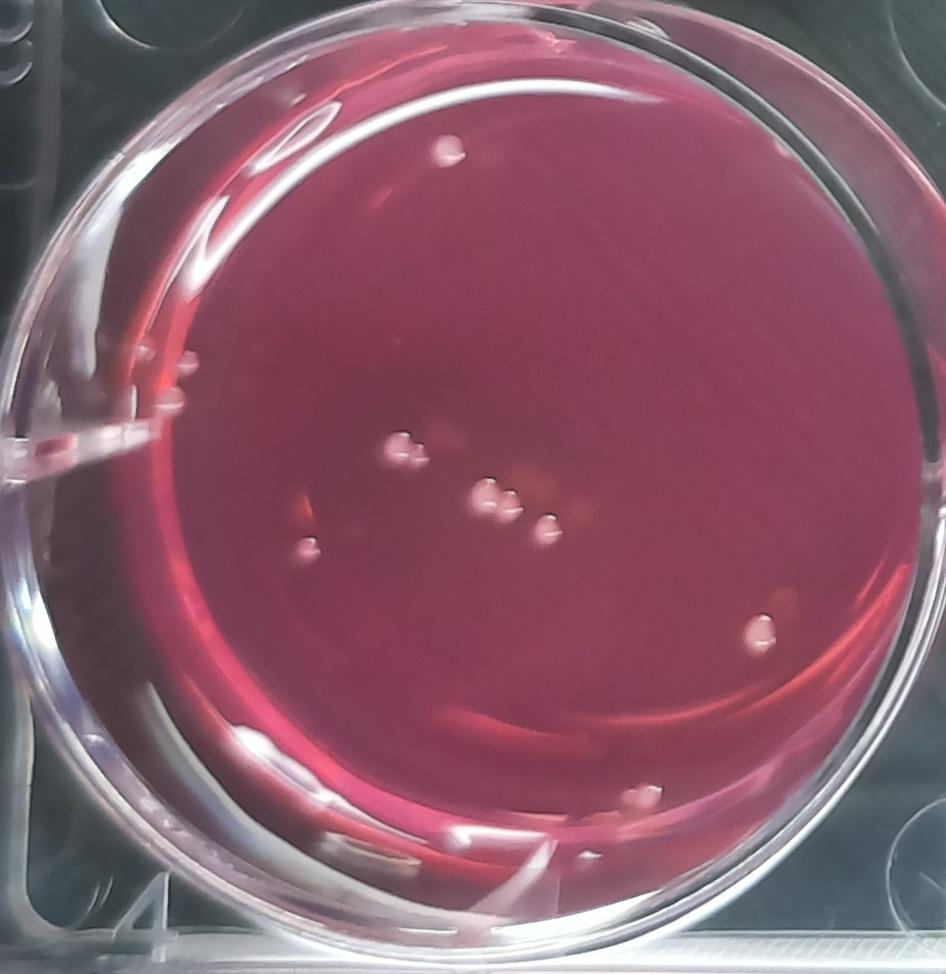bcereus: (378, 422, 430, 479), (422, 127, 474, 175), (292, 532, 292, 532)
